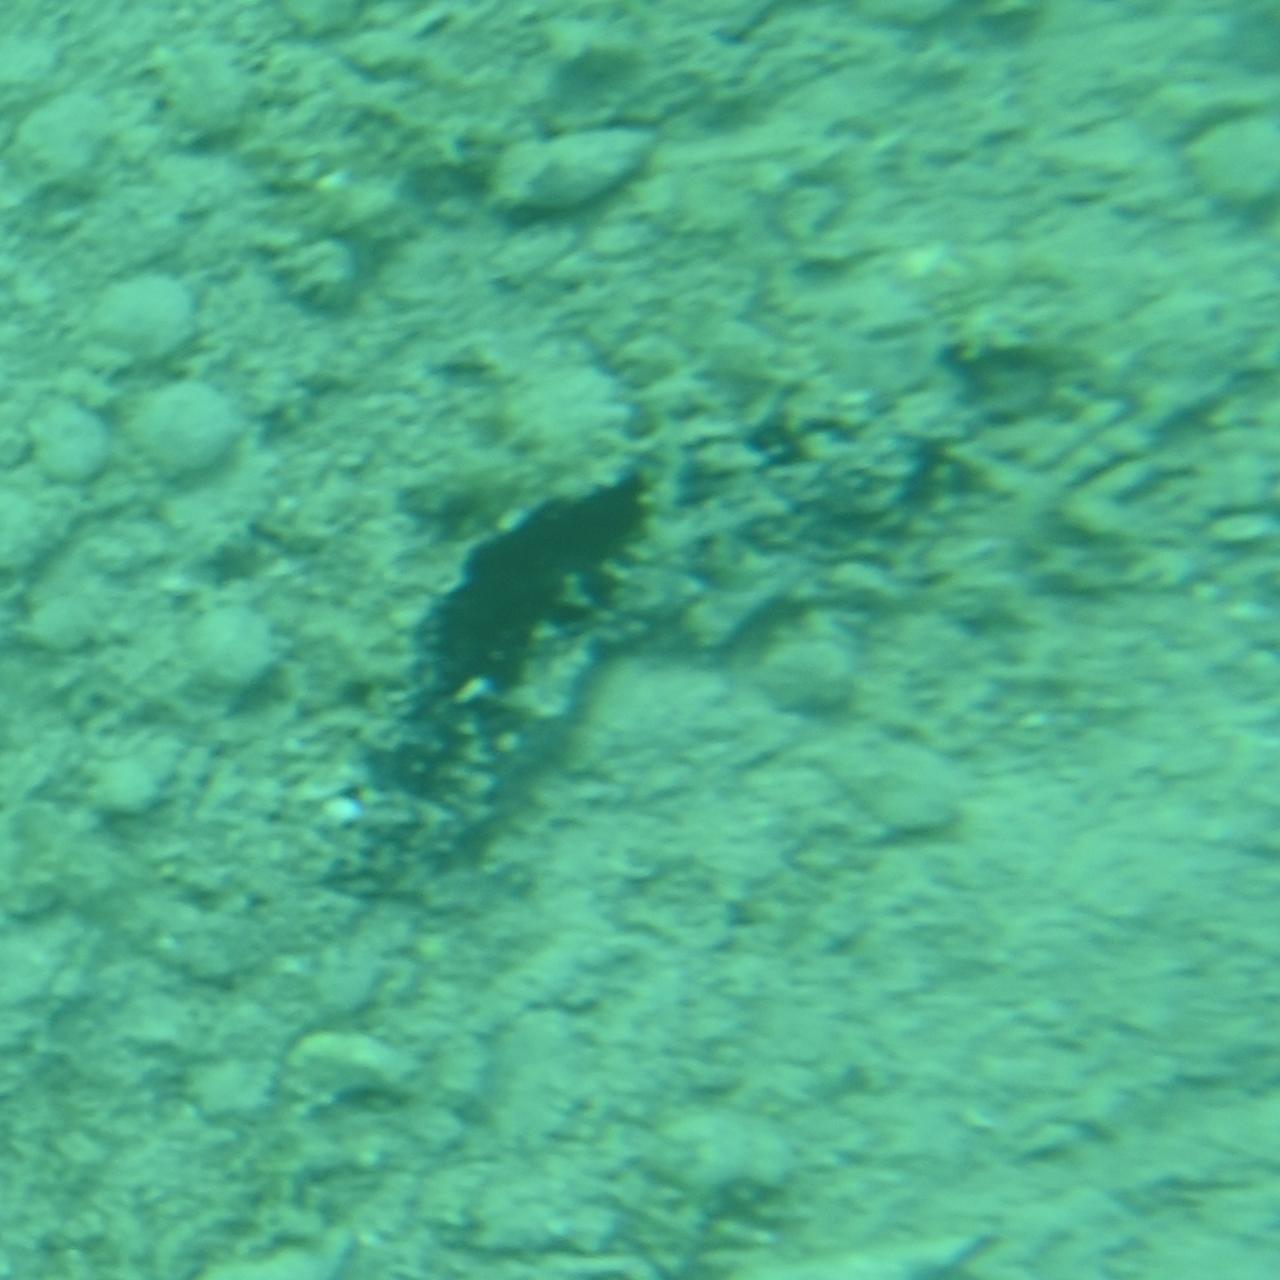Holothuria tubulosa: (314, 365, 966, 915)
